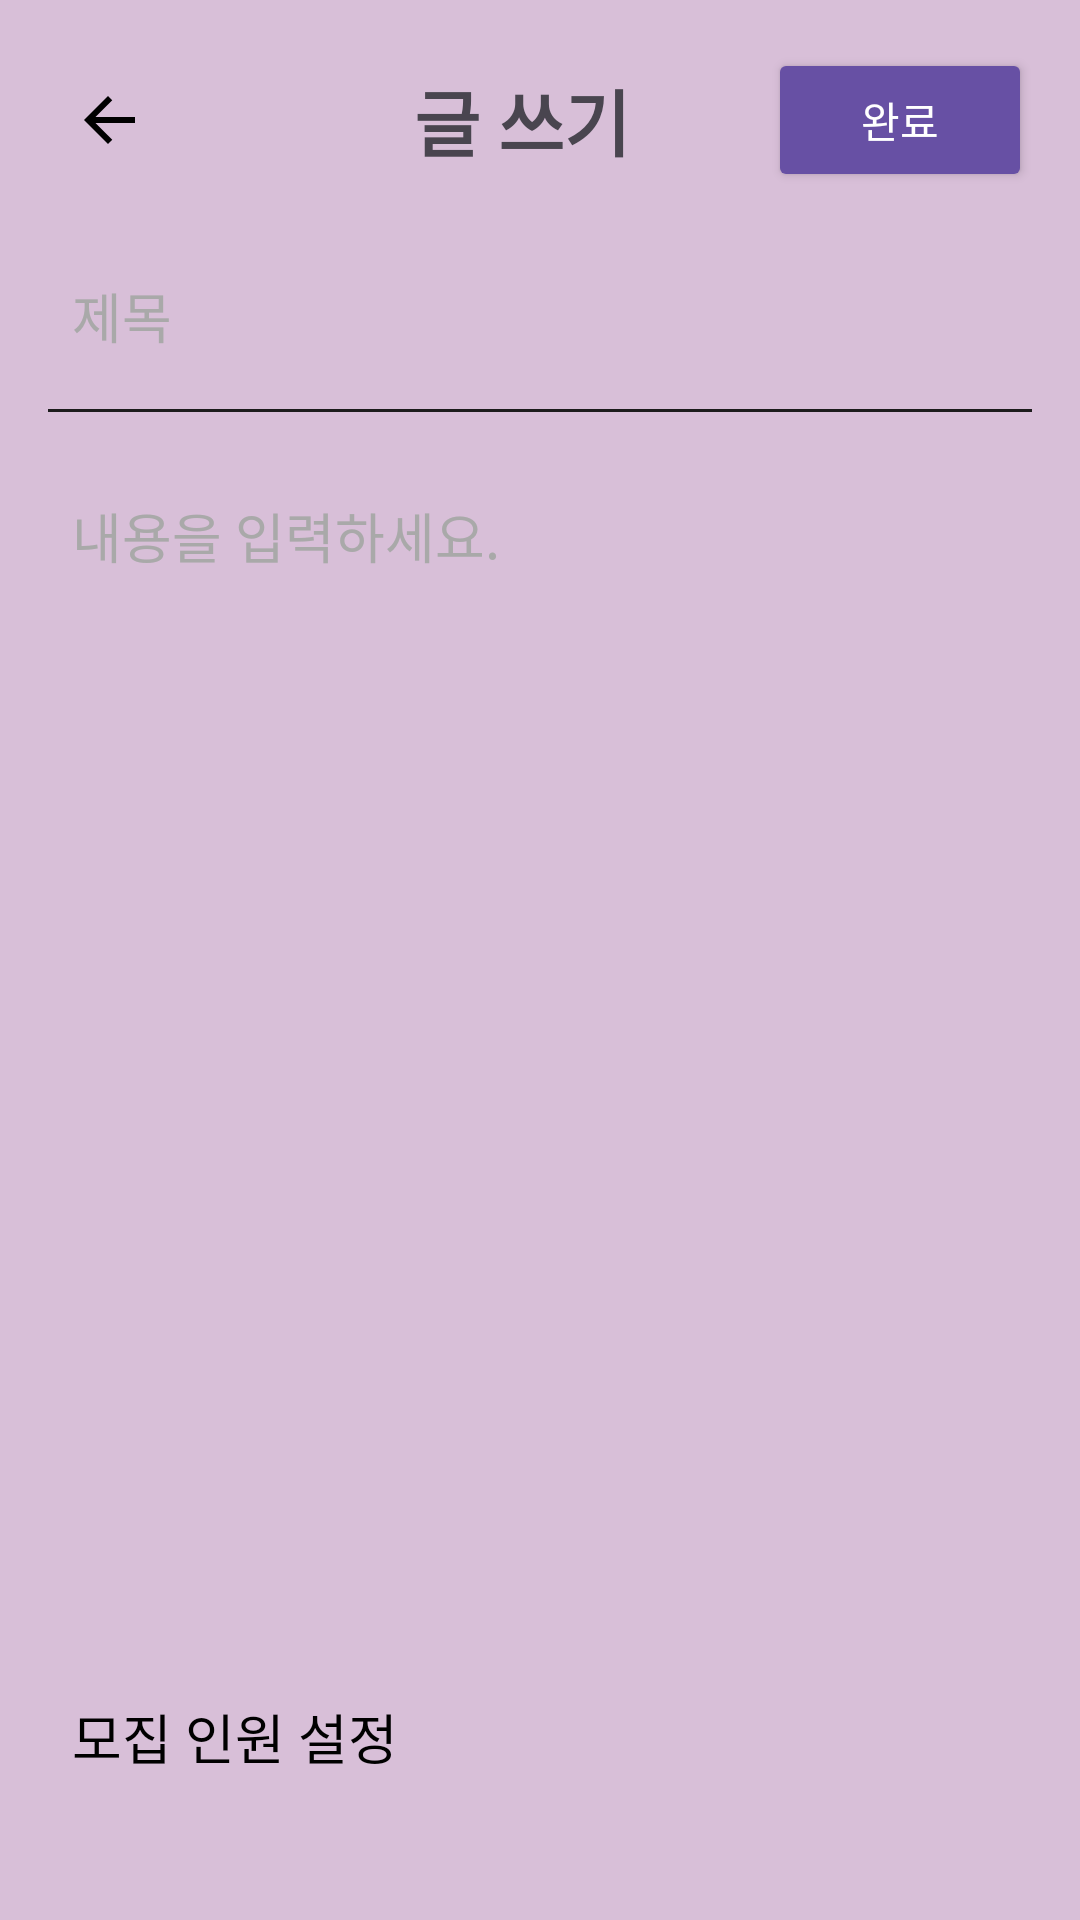

Where icons sit on this 1080w x 1920h app screen, as (x1, y1, x2, y2):
arrow back: (84, 96, 135, 144)
